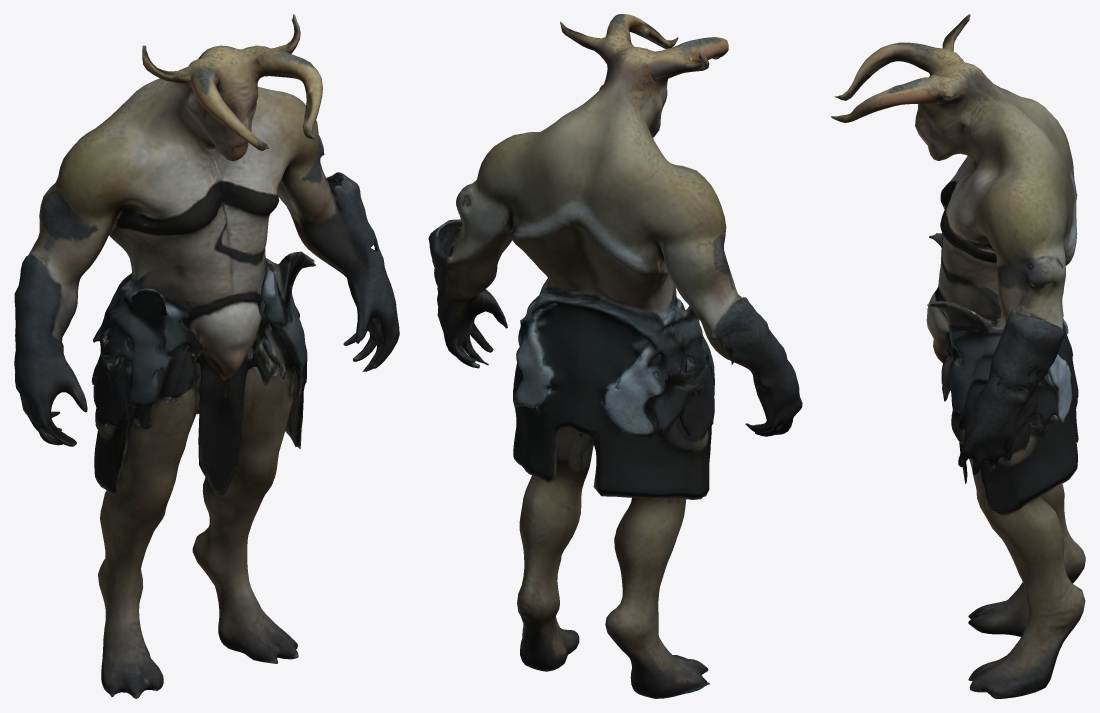
The model's file is Trolloc_com_cara_de_p_1107163050.obj.
3 renders of one model, left to right at view 1: azimuth 30°, elevation 25°; view 2: azimuth 150°, elevation 25°; view 3: azimuth 270°, elevation 25°, orthographic. The views are drawn at different scales.
Visible parts, largest first — view 1: Trolloc_com_cara_de_p_1107163050; view 2: Trolloc_com_cara_de_p_1107163050; view 3: Trolloc_com_cara_de_p_1107163050.
Part boxes in pixels (left/top/right/bottom): Trolloc_com_cara_de_p_1107163050: left=14, top=14, right=399, bottom=698; Trolloc_com_cara_de_p_1107163050: left=428, top=14, right=802, bottom=698; Trolloc_com_cara_de_p_1107163050: left=831, top=14, right=1085, bottom=698.
Size of the model in its own units: 1.18 by 1.99 by 0.7518.
1 material, 1 textured.
